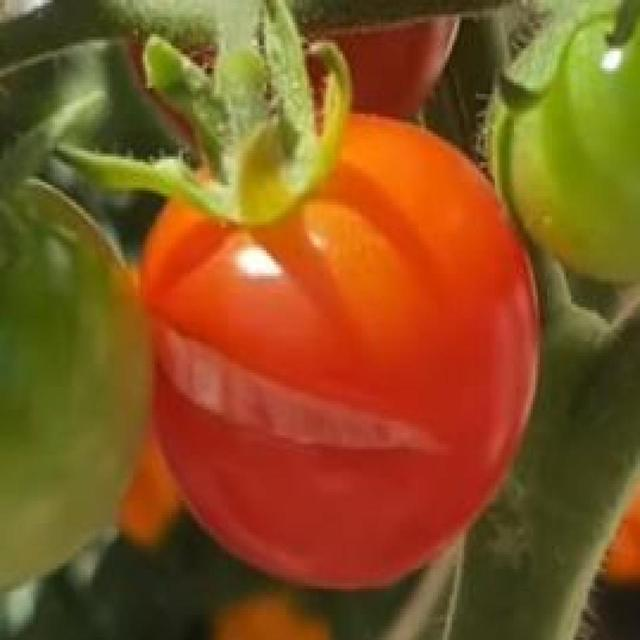Cracking Fruit: (94, 196, 306, 322)
